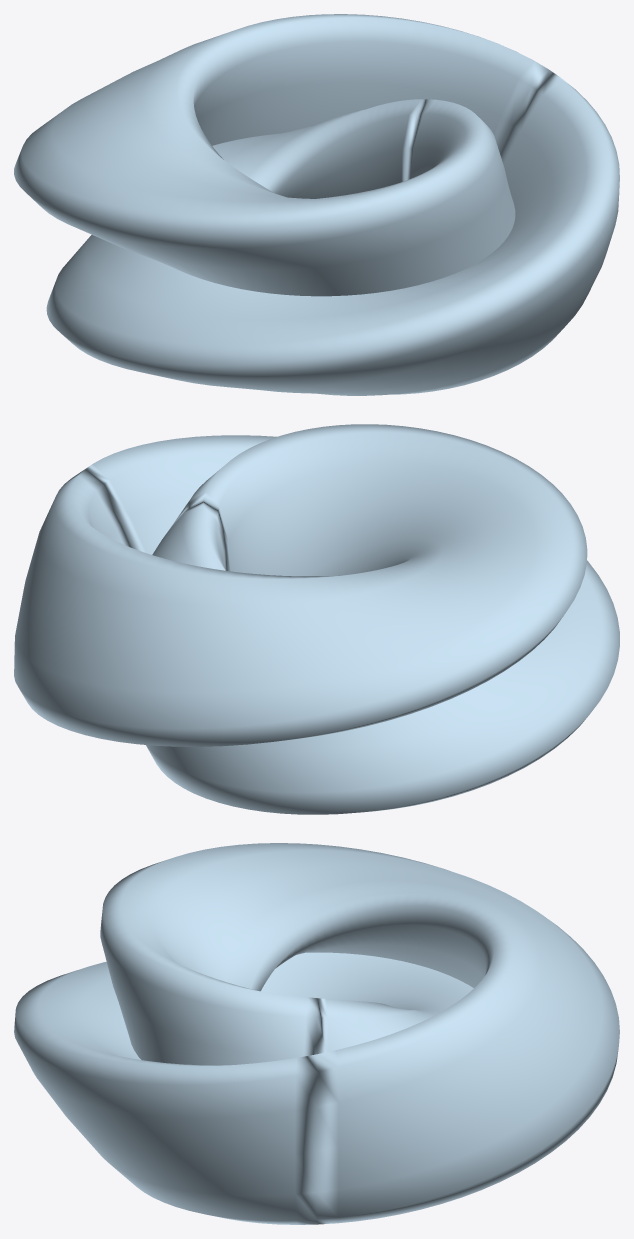
The model's file is example.gltf.
The picture shows the model from 3 angles, top to bottom: view 1: azimuth 30°, elevation 25°; view 2: azimuth 150°, elevation 25°; view 3: azimuth 270°, elevation 25°; orthographic projection. The views are drawn at different scales.
Parts seen in each view (by area): view 1: klein_bottle; view 2: klein_bottle; view 3: klein_bottle.
Boxes of the visible parts, x1,y1,x2,y2 form: klein_bottle: (14, 14, 619, 395); klein_bottle: (14, 424, 619, 814); klein_bottle: (14, 843, 619, 1224).
Size of the model in its own units: 3.01 by 1.22 by 3.22.
